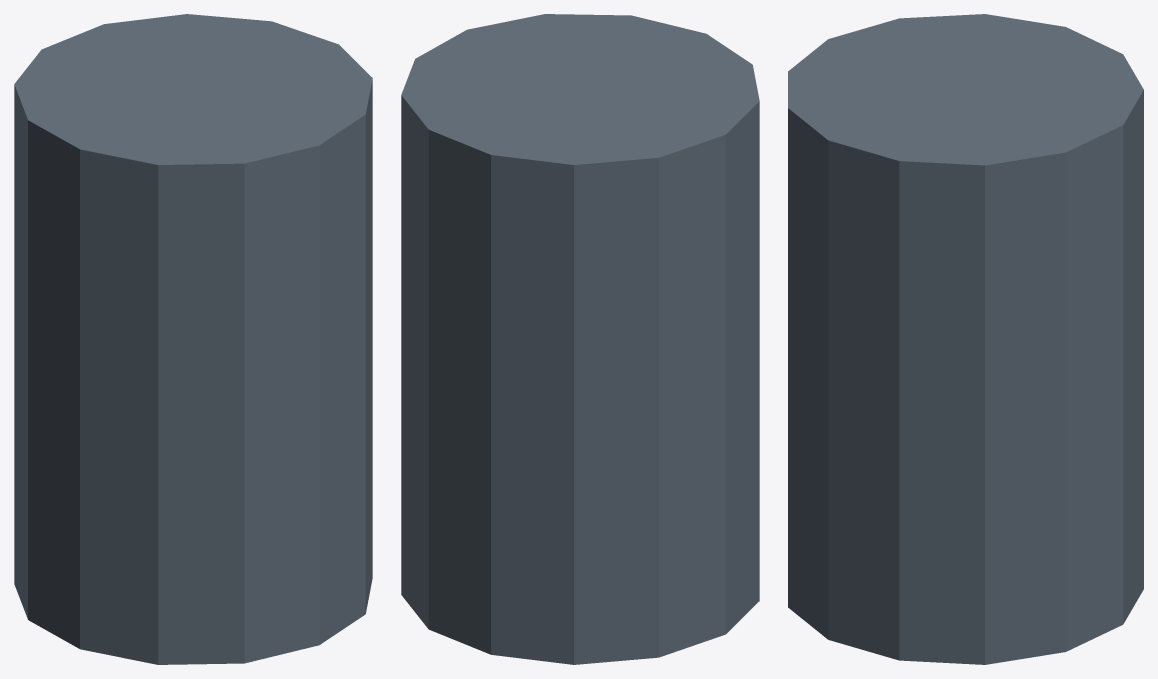
The model's file is Column09.fbx.
3 renders of one model, left to right at view 1: azimuth 30°, elevation 25°; view 2: azimuth 150°, elevation 25°; view 3: azimuth 270°, elevation 25°, orthographic.
Parts seen in each view (by area): view 1: Column09; view 2: Column09; view 3: Column09.
Part boxes in pixels (<box>): Column09: <box>14,14,372,664</box>; Column09: <box>401,14,759,664</box>; Column09: <box>788,14,1143,664</box>.
Size of the model in its own units: 37.72 by 58 by 37.45.
1 material, 1 textured.
